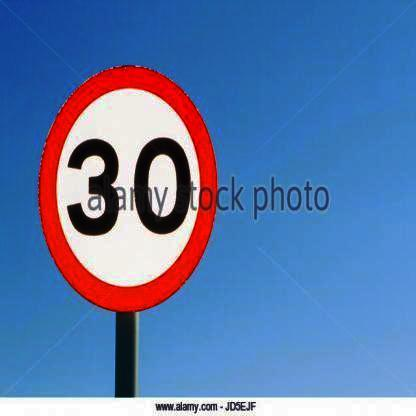Speed Limit -30-: (31, 62, 218, 319)
